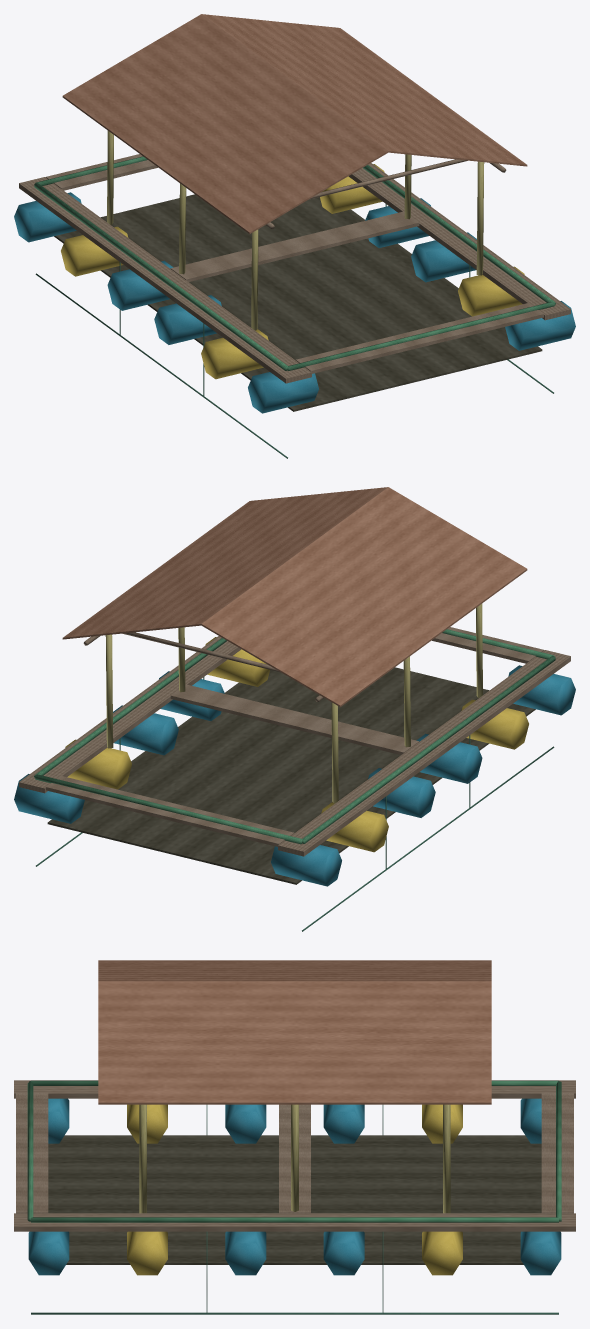
Rendered from bung-raft-2-rust-mid.glb.
3 renders of one model, top to bottom at view 1: azimuth 30°, elevation 25°; view 2: azimuth 150°, elevation 25°; view 3: azimuth 270°, elevation 25°, orthographic. The views are drawn at different scales.
Parts seen in each view (by area): view 1: bung-raft-2-rust-mid; view 2: bung-raft-2-rust-mid; view 3: bung-raft-2-rust-mid.
Boxes of the visible parts, left/top/right/bottom form: bung-raft-2-rust-mid: left=14, top=14, right=575, bottom=458; bung-raft-2-rust-mid: left=14, top=487, right=575, bottom=931; bung-raft-2-rust-mid: left=14, top=960, right=575, bottom=1314.
Bounding box in the file's own units: 5.34 × 4.17 × 8.
Materials: 1 (1 with a texture image).
